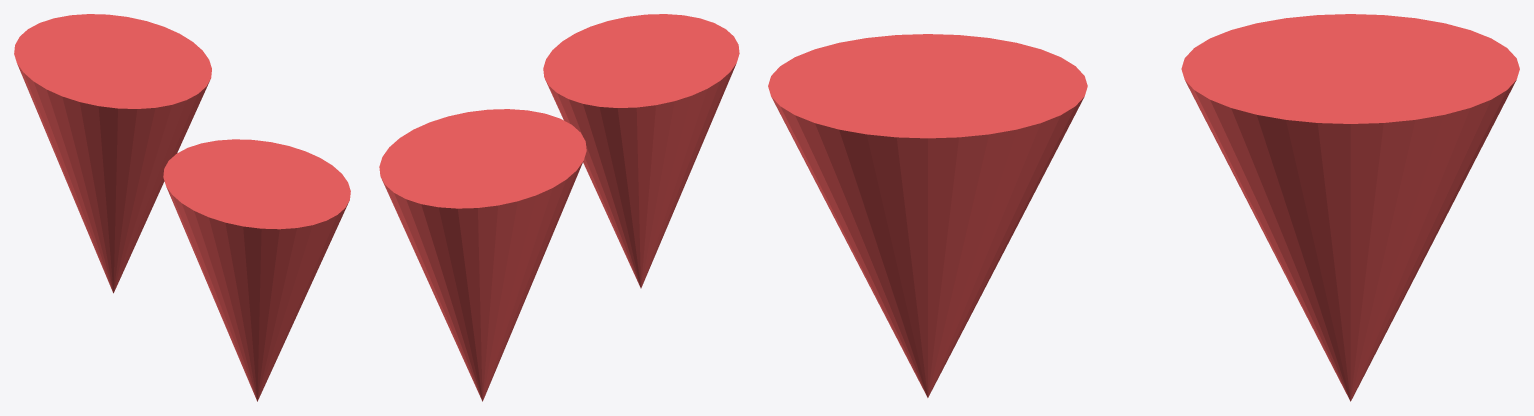
The model's file is kuukihou_reggs.fbx.
3 renders of one model, left to right at view 1: azimuth 30°, elevation 25°; view 2: azimuth 150°, elevation 25°; view 3: azimuth 270°, elevation 25°, orthographic. The views are drawn at different scales.
Parts seen in each view (by area): view 1: 球.007, 球.006; view 2: 球.007, 球.006; view 3: 球.007, 球.006.
Boxes of the visible parts, x1=… form: 球.007: x1=14, y1=14, x2=211, y2=293; 球.006: x1=163, y1=139, x2=350, y2=401; 球.007: x1=379, y1=109, x2=586, y2=401; 球.006: x1=543, y1=14, x2=739, y2=288; 球.007: x1=1181, y1=14, x2=1519, y2=401; 球.006: x1=768, y1=34, x2=1087, y2=397.
Size of the model in its own units: 109 by 38.14 by 53.29.
